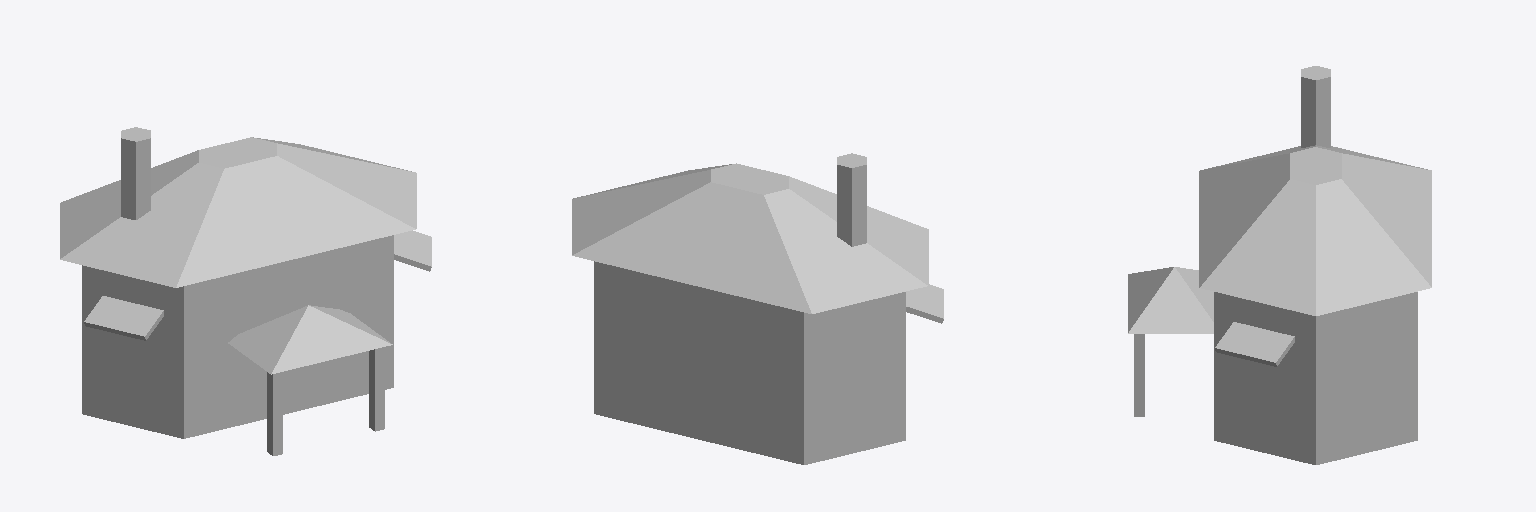
The model's file is house1.obj.
3 renders of one model, left to right at view 1: azimuth 30°, elevation 25°; view 2: azimuth 150°, elevation 25°; view 3: azimuth 270°, elevation 25°, orthographic.
Visible parts, largest first — view 1: House1; view 2: House1; view 3: House1.
Boxes of the visible parts, x1,y1,x2,y2 form: House1: [60, 127, 431, 455]; House1: [572, 153, 943, 464]; House1: [1128, 66, 1431, 464].
Size of the model in its own units: 35.04 by 25 by 25.89.